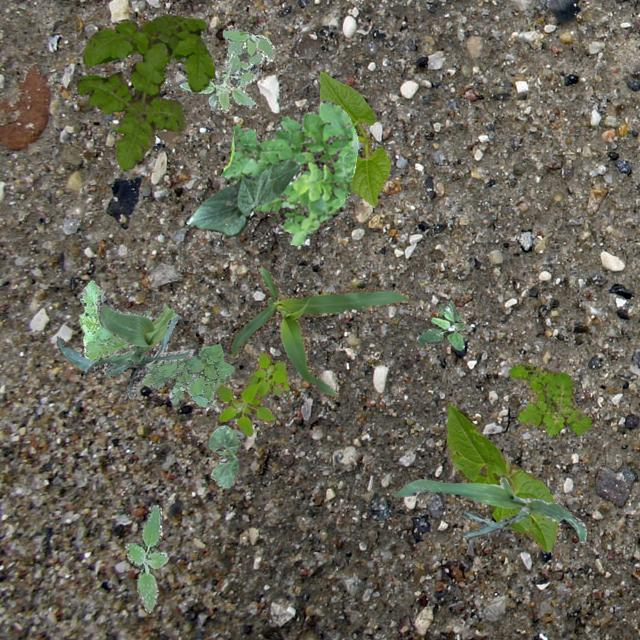crop: (226, 264, 408, 401), (446, 404, 556, 552), (56, 292, 192, 398), (394, 477, 586, 542), (318, 70, 389, 206), (184, 157, 300, 235), (206, 424, 238, 488)
weed: (75, 14, 214, 170), (220, 98, 358, 244), (78, 280, 232, 406), (176, 27, 274, 112), (214, 352, 288, 436), (508, 364, 590, 436), (124, 504, 168, 612), (416, 300, 464, 350)
